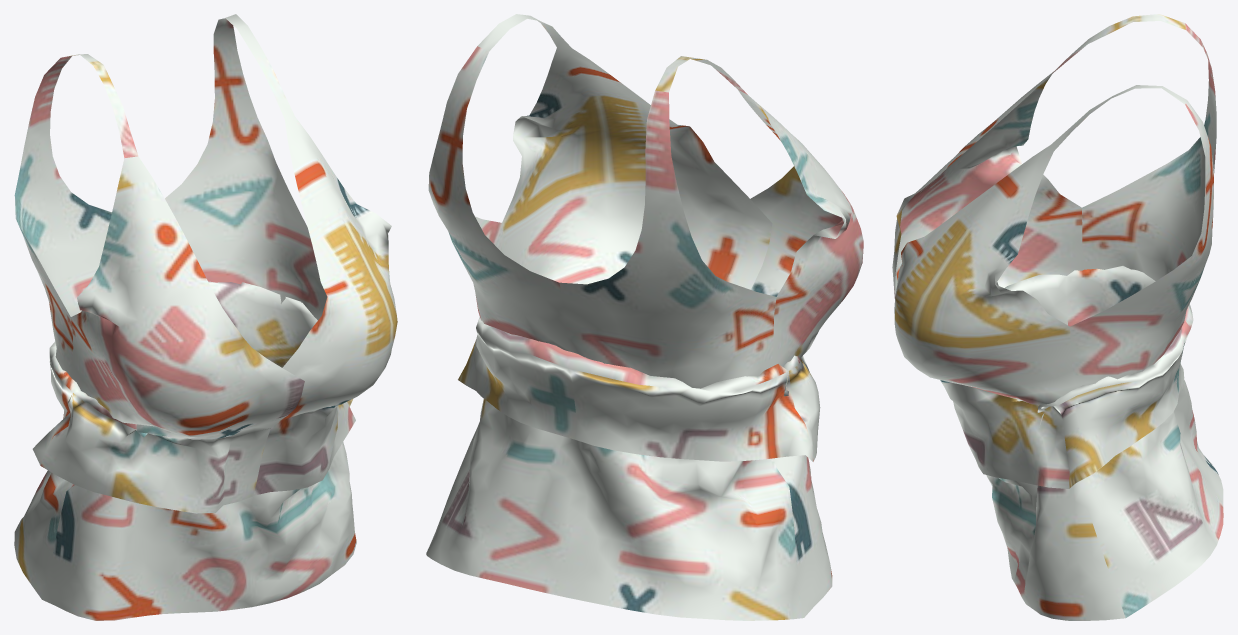
The model's file is blusa3.obj.
The picture shows the model from 3 angles, left to right: view 1: azimuth 30°, elevation 25°; view 2: azimuth 150°, elevation 25°; view 3: azimuth 270°, elevation 25°; orthographic projection. The views are drawn at different scales.
Parts seen in each view (by area): view 1: Pattern2D_235886, Pattern2D_7613, Pattern2D_235982, Pattern2D_233284, Pattern2D_233733, Pattern2D_7612, Pattern2D_101605, Pattern2D_101604, Pattern2D_233722; view 2: Pattern2D_7612, Pattern2D_235982, Pattern2D_233733, Pattern2D_235886, Pattern2D_233722, Pattern2D_233284, Pattern2D_233526, Pattern2D_7613, Pattern2D_101605, Pattern2D_101604; view 3: Pattern2D_235982, Pattern2D_7612, Pattern2D_7613, Pattern2D_235886, Pattern2D_233733, Pattern2D_233284, Pattern2D_233526, Pattern2D_101604, Pattern2D_101605.
Boxes of the visible parts, bbox=[...] form: Pattern2D_235886: bbox=[40, 156, 304, 513]; Pattern2D_7613: bbox=[42, 391, 356, 620]; Pattern2D_235982: bbox=[253, 116, 397, 495]; Pattern2D_233284: bbox=[165, 18, 323, 320]; Pattern2D_233733: bbox=[14, 56, 111, 401]; Pattern2D_7612: bbox=[14, 281, 317, 599]; Pattern2D_101605: bbox=[221, 14, 294, 118]; Pattern2D_101604: bbox=[69, 54, 138, 158]; Pattern2D_233722: bbox=[32, 353, 72, 465]; Pattern2D_7612: bbox=[426, 317, 803, 620]; Pattern2D_235982: bbox=[502, 47, 772, 289]; Pattern2D_233733: bbox=[559, 90, 787, 391]; Pattern2D_235886: bbox=[738, 89, 863, 461]; Pattern2D_233722: bbox=[569, 368, 812, 461]; Pattern2D_233284: bbox=[428, 46, 571, 351]; Pattern2D_233526: bbox=[458, 328, 576, 439]; Pattern2D_7613: bbox=[773, 355, 832, 617]; Pattern2D_101605: bbox=[477, 14, 571, 51]; Pattern2D_101604: bbox=[655, 56, 747, 94]; Pattern2D_235982: bbox=[894, 145, 1075, 488]; Pattern2D_7612: bbox=[1055, 266, 1223, 617]; Pattern2D_7613: bbox=[986, 274, 1125, 620]; Pattern2D_235886: bbox=[892, 71, 1083, 298]; Pattern2D_233733: bbox=[1082, 23, 1216, 280]; Pattern2D_233284: bbox=[1070, 100, 1213, 388]; Pattern2D_233526: bbox=[1058, 329, 1190, 488]; Pattern2D_101604: bbox=[1051, 14, 1185, 74]; Pattern2D_101605: bbox=[1051, 85, 1186, 150].
Size of the model in its own units: 0.3518 by 0.5527 by 0.3241.
